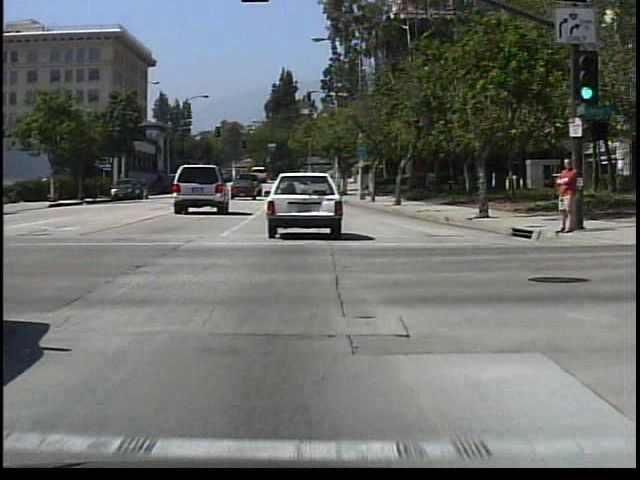person: (552, 156, 581, 239)
